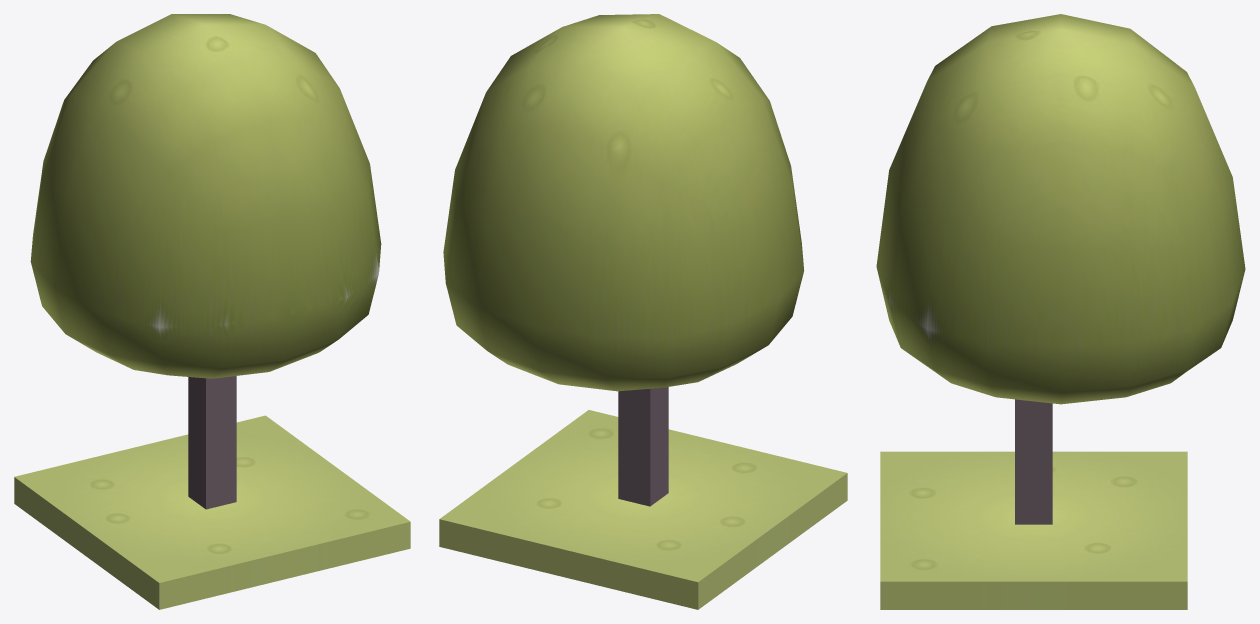
The model's file is cube.019_material.008_0_lev1.glb.
3 renders of one model, left to right at view 1: azimuth 30°, elevation 25°; view 2: azimuth 150°, elevation 25°; view 3: azimuth 270°, elevation 25°, orthographic. The views are drawn at different scales.
Visible parts, largest first — view 1: cube.019_material.008_0_lev1; view 2: cube.019_material.008_0_lev1; view 3: cube.019_material.008_0_lev1.
Boxes of the visible parts, x1,y1,x2,y2 form: cube.019_material.008_0_lev1: (14, 14, 410, 609); cube.019_material.008_0_lev1: (439, 14, 847, 609); cube.019_material.008_0_lev1: (876, 14, 1245, 609).
Size of the model in its own units: 0.2571 by 0.3987 by 0.2571.
1 material, 1 textured.
